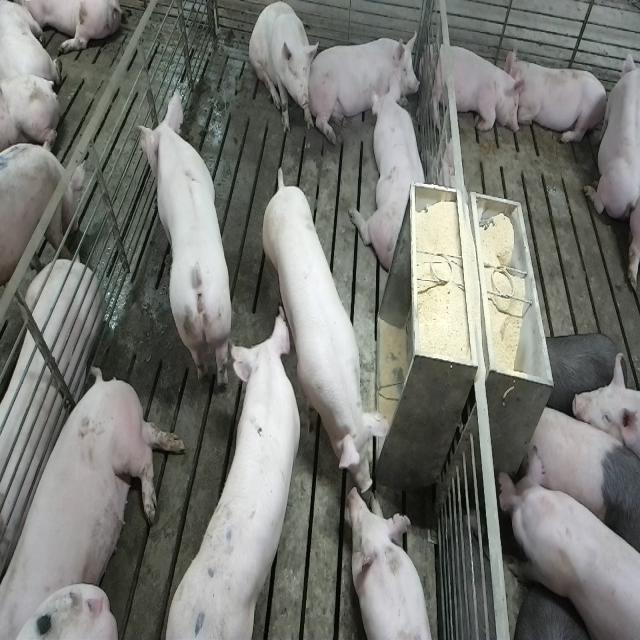Lateral_lying: (5, 363, 187, 636), (0, 259, 102, 581)
Sitting: (250, 3, 318, 139)
Standing: (161, 305, 304, 635), (262, 159, 388, 486), (137, 94, 235, 396), (498, 452, 638, 640), (519, 402, 638, 566), (0, 143, 86, 355)
Sternal_lying: (356, 83, 430, 274), (349, 484, 438, 638), (314, 28, 421, 137), (425, 38, 524, 138), (584, 41, 638, 223), (509, 52, 609, 150)
